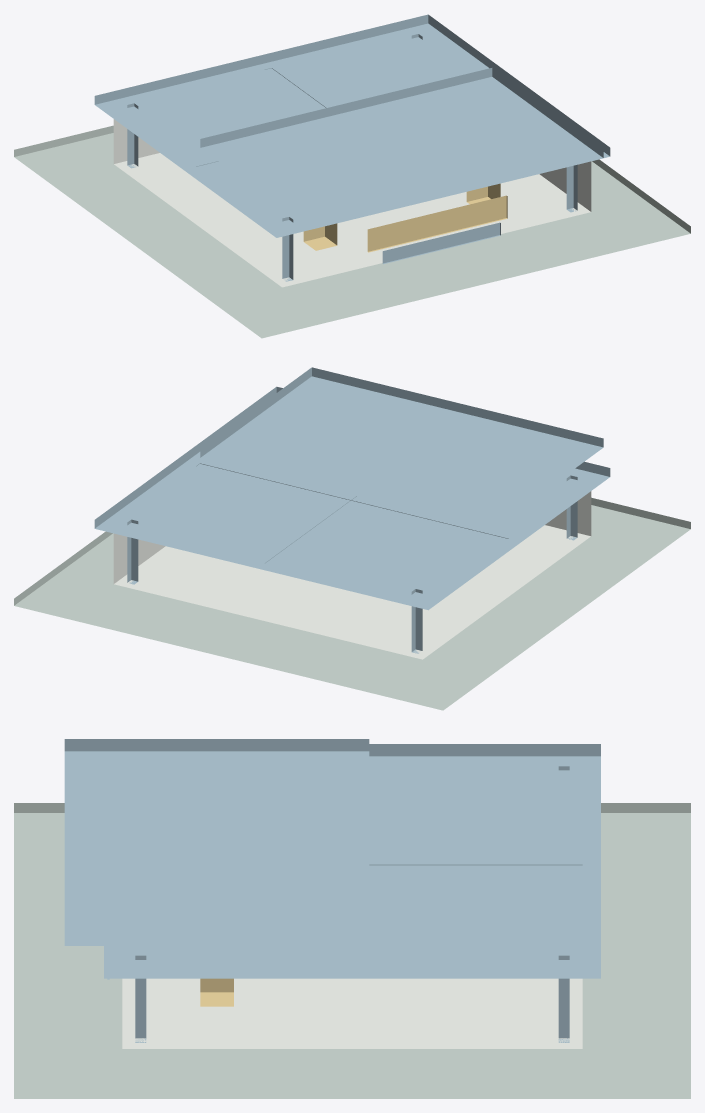
The model's file is fuel_station.glb.
3 renders of one model, top to bottom at view 1: azimuth 30°, elevation 25°; view 2: azimuth 150°, elevation 25°; view 3: azimuth 270°, elevation 25°, orthographic. The views are drawn at different scales.
Visible parts, largest first — view 1: Details, Foundation, Roof, Walls, Frame; view 2: Roof, Foundation, Details, Walls, Frame; view 3: Foundation, Details, Roof, Walls, Frame.
Part boxes in pixels (x1,y1,x2,y2): Details: (200, 68, 603, 264); Foundation: (14, 125, 690, 338); Roof: (94, 14, 610, 237); Walls: (113, 119, 591, 287); Frame: (127, 34, 577, 281); Roof: (94, 386, 610, 610); Foundation: (14, 497, 690, 710); Details: (200, 367, 603, 528); Walls: (113, 491, 591, 659); Frame: (127, 463, 577, 653); Foundation: (14, 803, 690, 1098); Details: (64, 739, 369, 1006); Roof: (104, 744, 600, 978); Walls: (122, 978, 582, 1048); Frame: (135, 766, 582, 1042).
Bounding box in the file's own units: 40 × 7.8 × 40.
